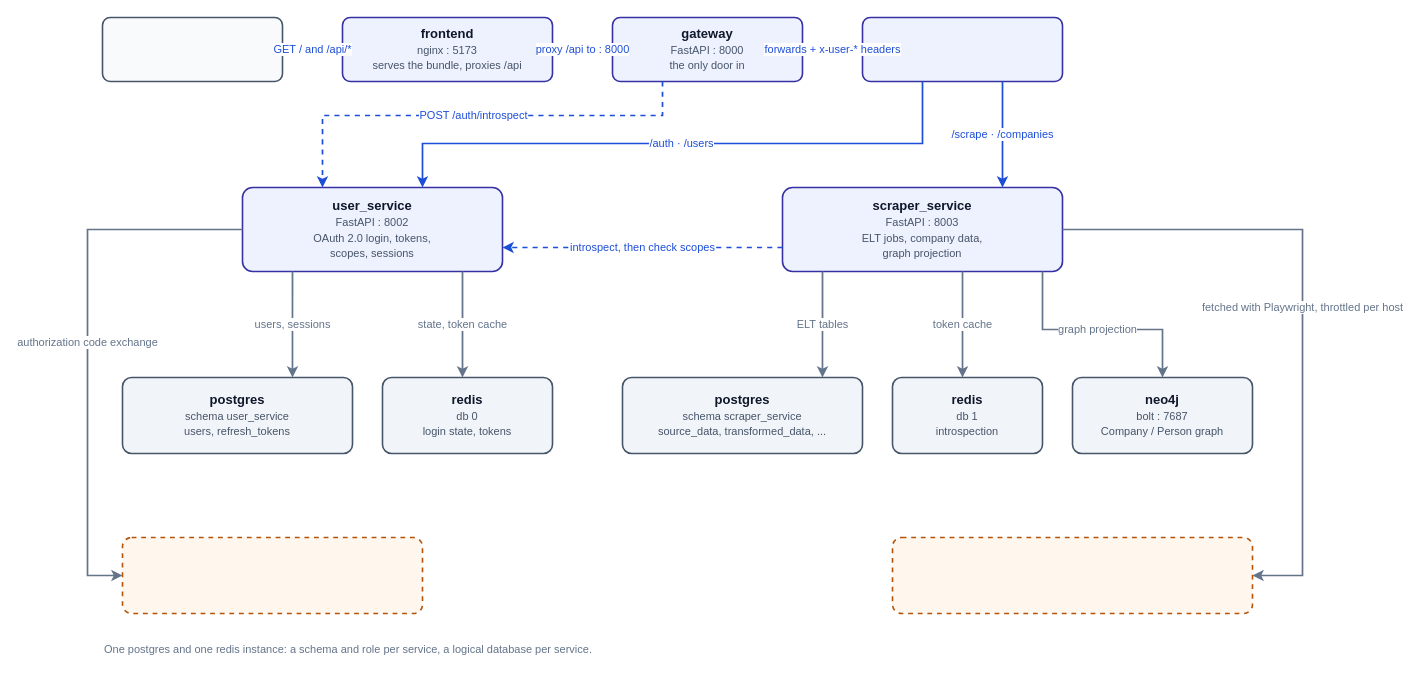
The diagram is 1420 pixels wide and 677 high, and some of its shapes have lost their labels. The shapes that lost their labels are listed below. From the top down, each one's centre as x and y in pixels, then its label:
pixel 192 49: browser React SPA (Vite)
pixel 962 49: app_service FastAPI : 8001 orchestrator, owns no data
pixel 272 575: accounts.google.com OAuth 2.0 identity provider
pixel 1072 575: public sources openmoney.md depozitar.statistica.md
